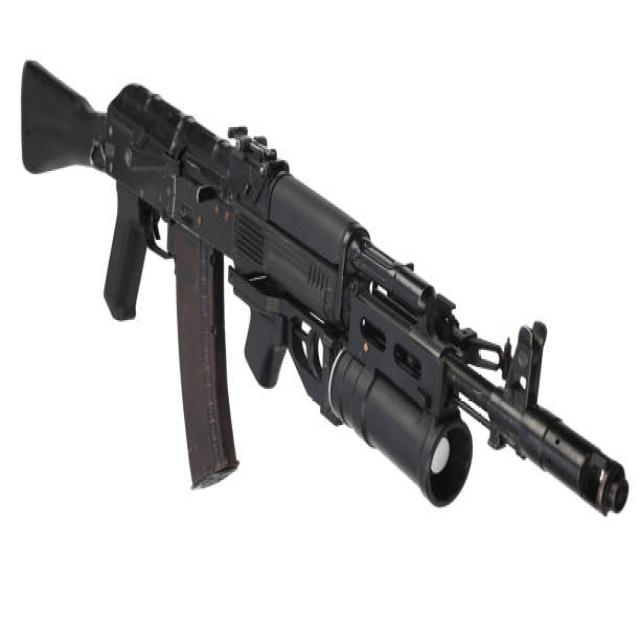rifle: (21, 40, 638, 541)
